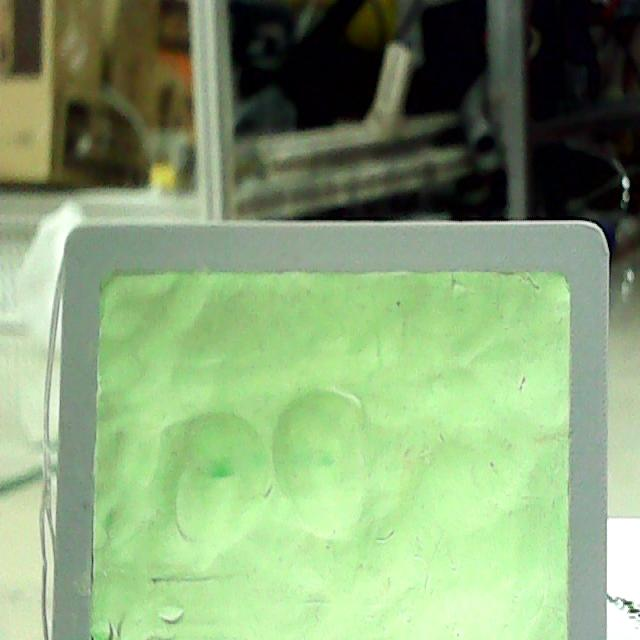block: (44, 220, 608, 638)
